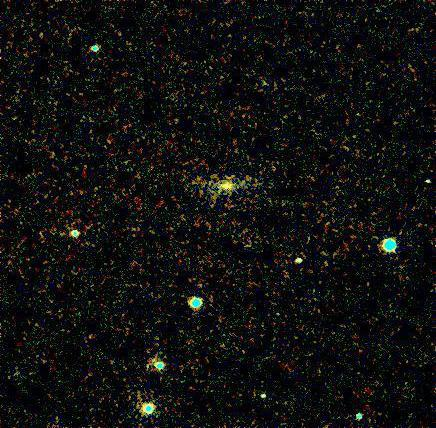star: (207, 170, 237, 200)
